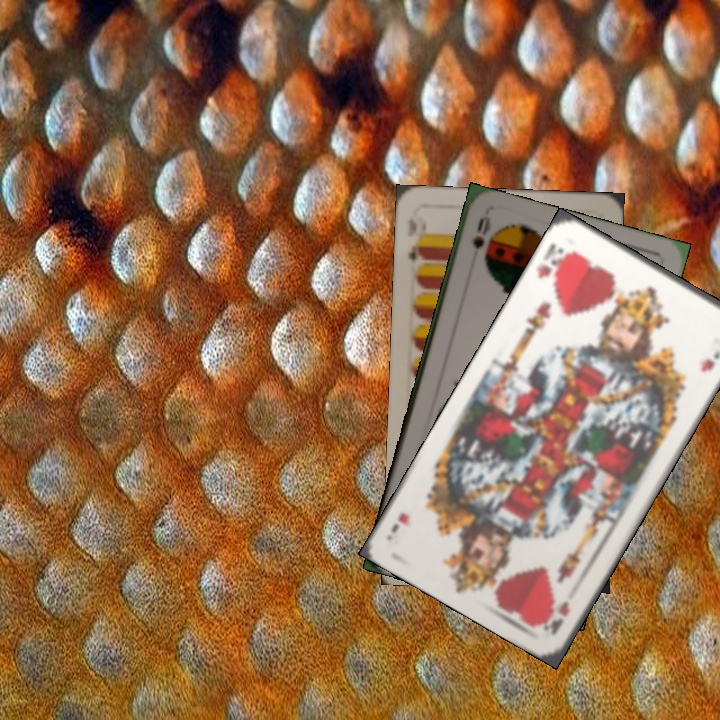E10: (403, 230, 428, 264)
HK: (532, 239, 575, 289), (539, 597, 573, 637)
SO: (468, 212, 494, 252)
